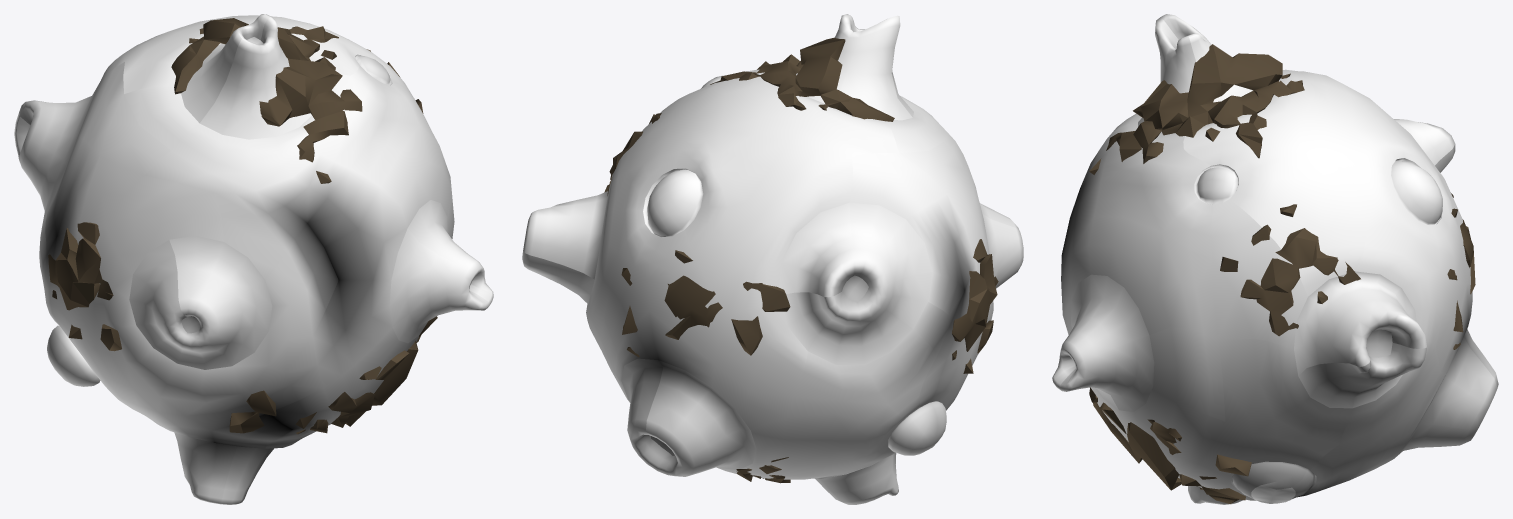
File: p_mesh_gaspotato01_small_pose0.fbx
3 views of the same model, side by side, from view 1: azimuth 30°, elevation 25°; view 2: azimuth 150°, elevation 25°; view 3: azimuth 270°, elevation 25° (orthographic). The views are drawn at different scales.
Parts seen in each view (by area): view 1: p_mesh_gaspotato01_pose0; view 2: p_mesh_gaspotato01_pose0; view 3: p_mesh_gaspotato01_pose0.
Part boxes in pixels (x1,y1,x2,y2): p_mesh_gaspotato01_pose0: (14,14,493,504); p_mesh_gaspotato01_pose0: (522,14,1023,504); p_mesh_gaspotato01_pose0: (1052,14,1498,504).
Size of the model in its own units: 25.87 by 28.94 by 24.31.
